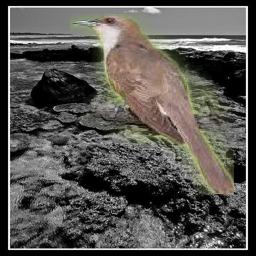Cuckoo: (70, 14, 234, 194)
